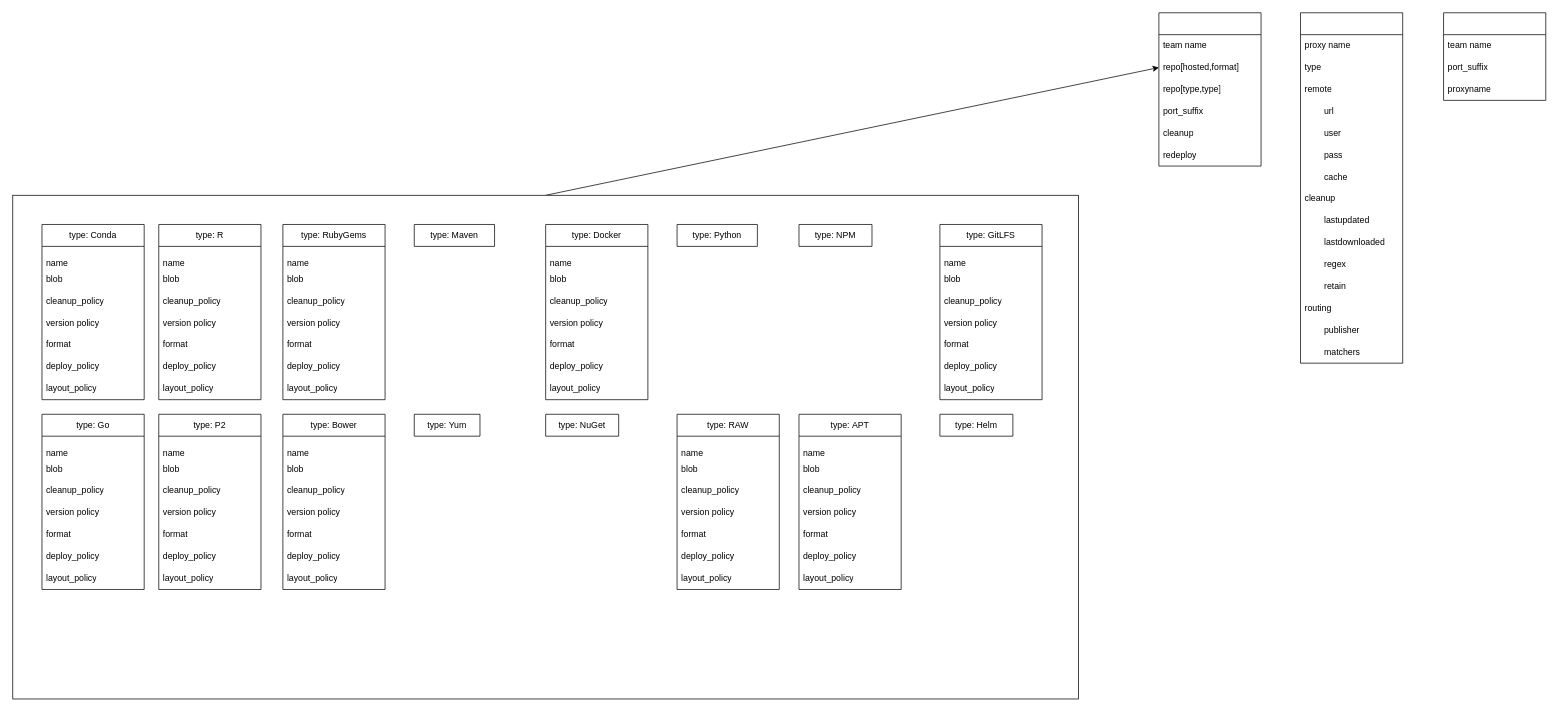
This 1559x712 diagram has some shape labels left out. Here are the shapes that lost their labels. From the top down, the box of each, then its label:
(1443, 12, 1546, 100): Group repo list
(1158, 12, 1261, 166): Team repo list
(1300, 12, 1403, 363): Proxy repo LIst
(12, 195, 1079, 699): Repos
